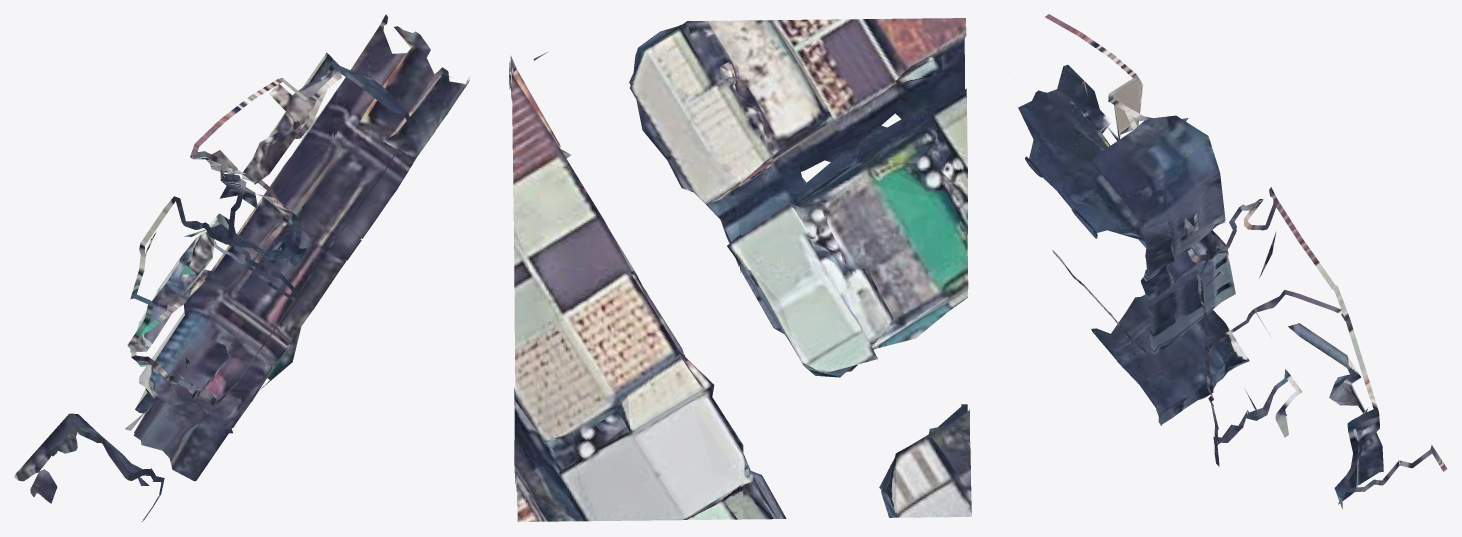
3 renders of one model, left to right at view 1: azimuth 30°, elevation 25°; view 2: azimuth 150°, elevation 25°; view 3: azimuth 270°, elevation 25°, orthographic. The views are drawn at different scales.
Bounding box in the file's own units: 42.34 × 38.6 × 38.
Materials: 2 (2 with a texture image).
